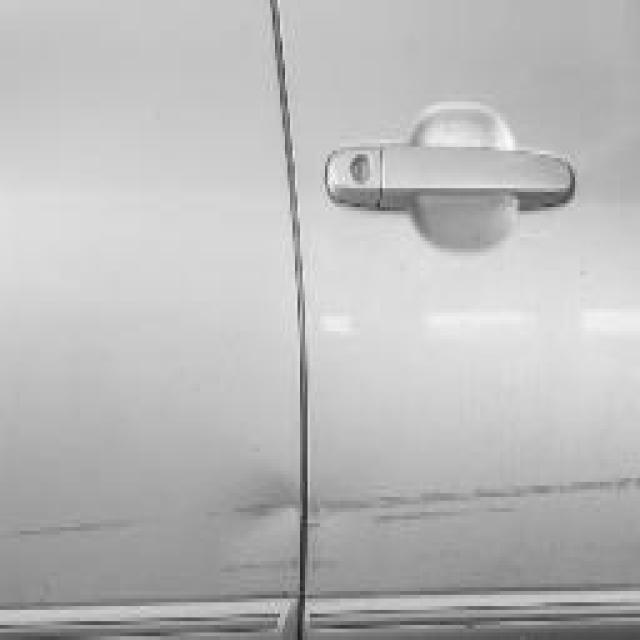Bumper: (5, 361, 640, 640)
